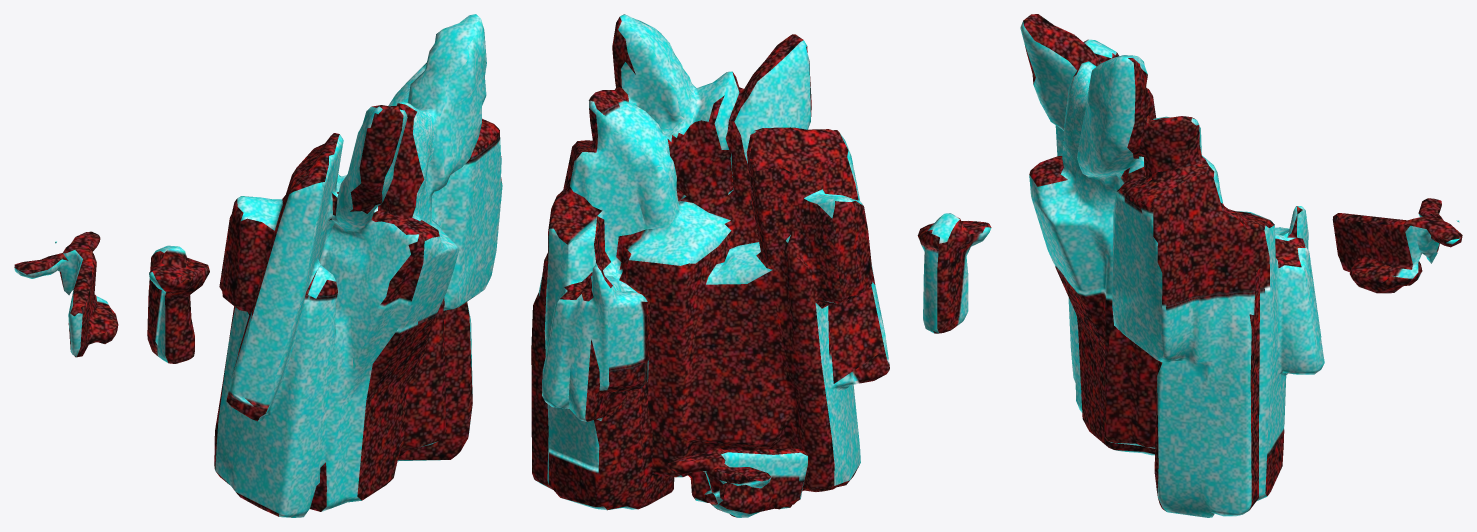
The picture shows the model from 3 angles, left to right: view 1: azimuth 30°, elevation 25°; view 2: azimuth 150°, elevation 25°; view 3: azimuth 270°, elevation 25°; orthographic projection. The views are drawn at different scales.
Parts seen in each view (by area): view 1: SM_L_World_MainGrid_L0_X8_Y2_0_ShadowProxy_LOD0; view 2: SM_L_World_MainGrid_L0_X8_Y2_0_ShadowProxy_LOD0; view 3: SM_L_World_MainGrid_L0_X8_Y2_0_ShadowProxy_LOD0.
Boxes of the visible parts, bbox=[...] form: SM_L_World_MainGrid_L0_X8_Y2_0_ShadowProxy_LOD0: bbox=[14, 14, 502, 517]; SM_L_World_MainGrid_L0_X8_Y2_0_ShadowProxy_LOD0: bbox=[531, 14, 991, 517]; SM_L_World_MainGrid_L0_X8_Y2_0_ShadowProxy_LOD0: bbox=[1020, 14, 1462, 517].
Bounding box in the file's own units: 305 × 336 × 294.
1 material, 1 textured.
